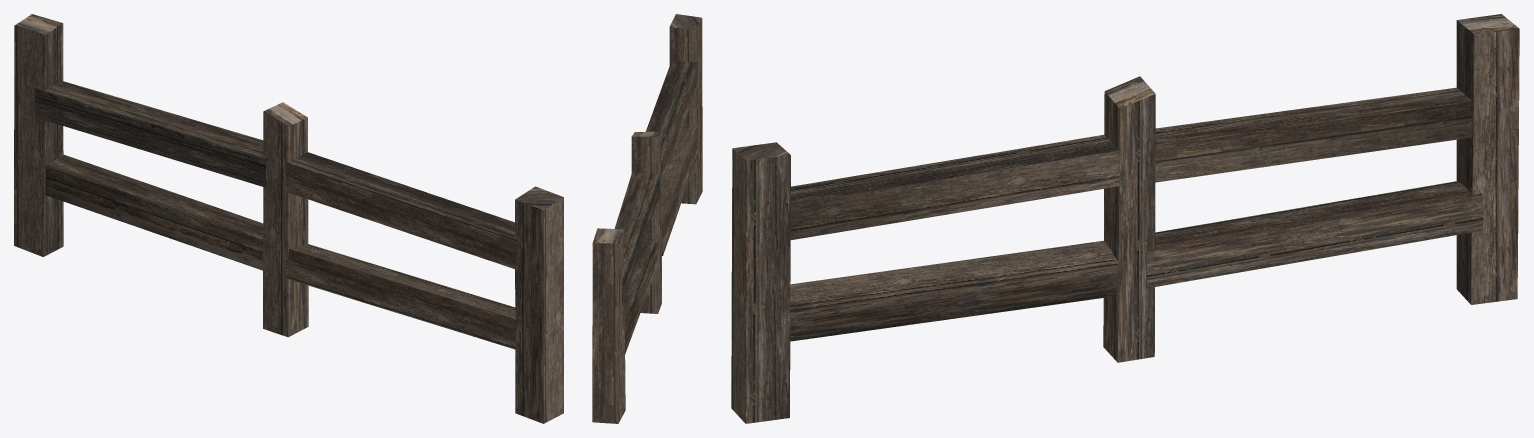
The model's file is v_fence.glb.
3 renders of one model, left to right at view 1: azimuth 30°, elevation 25°; view 2: azimuth 150°, elevation 25°; view 3: azimuth 270°, elevation 25°, orthographic. The views are drawn at different scales.
Visible parts, largest first — view 1: body|WoodLog_Plank; view 2: body|WoodLog_Plank; view 3: body|WoodLog_Plank.
Part boxes in pixels (<box>): body|WoodLog_Plank: <box>14,14,563,423</box>; body|WoodLog_Plank: <box>592,14,702,423</box>; body|WoodLog_Plank: <box>731,14,1519,423</box>.
Bounding box in the file's own units: 1.7 × 1.51 × 3.97.
Materials: 1 (1 with a texture image).
